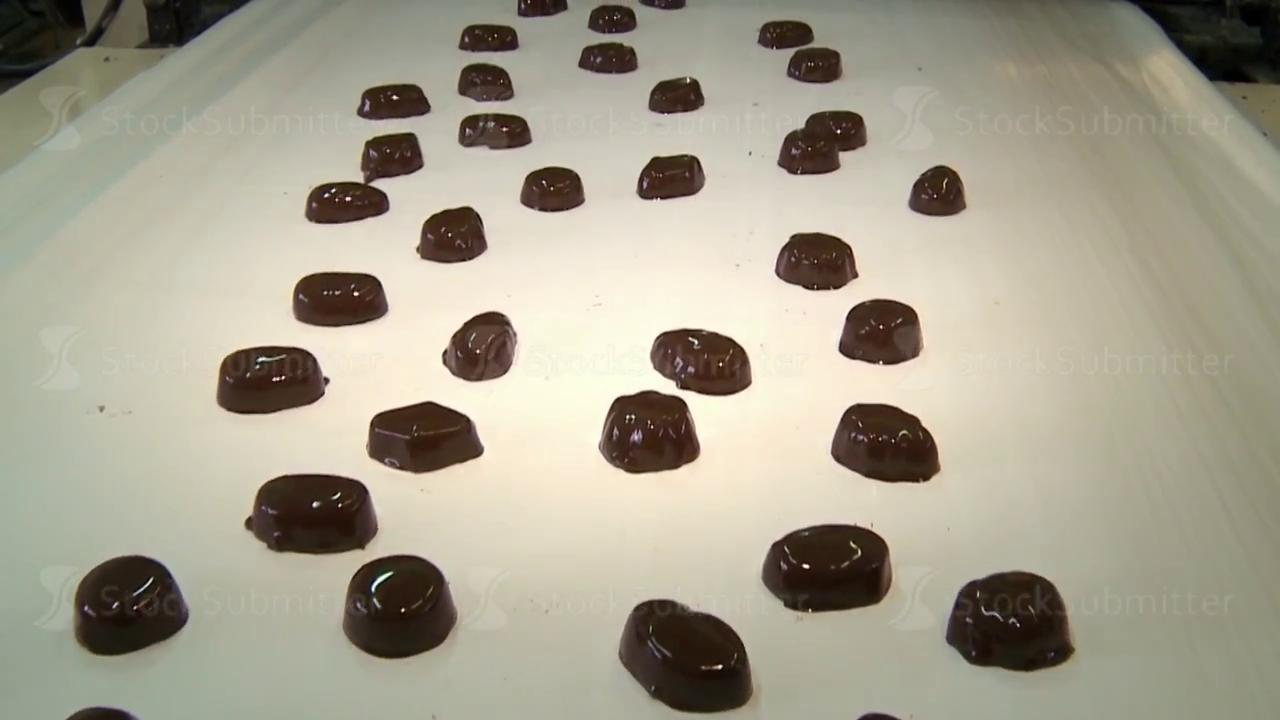chocolate: (618, 597, 753, 712), (945, 570, 1074, 672), (342, 553, 458, 658), (761, 523, 893, 612), (73, 553, 188, 655), (245, 473, 378, 554), (831, 402, 940, 483), (598, 390, 700, 473), (367, 400, 484, 472), (216, 345, 328, 414), (650, 327, 751, 395), (839, 298, 922, 364), (442, 310, 517, 381), (292, 271, 388, 326), (774, 231, 858, 290), (417, 206, 487, 263), (305, 181, 389, 223), (636, 153, 705, 200), (360, 131, 423, 182), (909, 164, 966, 216), (520, 166, 584, 212), (778, 127, 840, 174), (458, 112, 532, 149), (357, 83, 430, 119), (805, 110, 866, 150), (458, 62, 513, 102), (649, 75, 704, 113), (787, 47, 841, 82), (578, 41, 637, 73), (458, 23, 518, 51), (757, 20, 813, 49), (588, 5, 636, 33)
